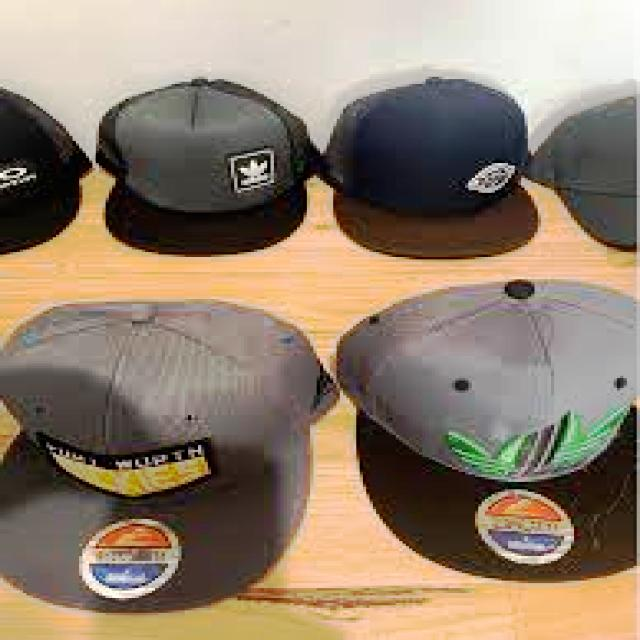TOPI: (0, 289, 343, 615), (326, 274, 636, 581), (86, 74, 327, 260), (317, 69, 544, 257), (518, 74, 630, 257), (0, 76, 92, 254)
